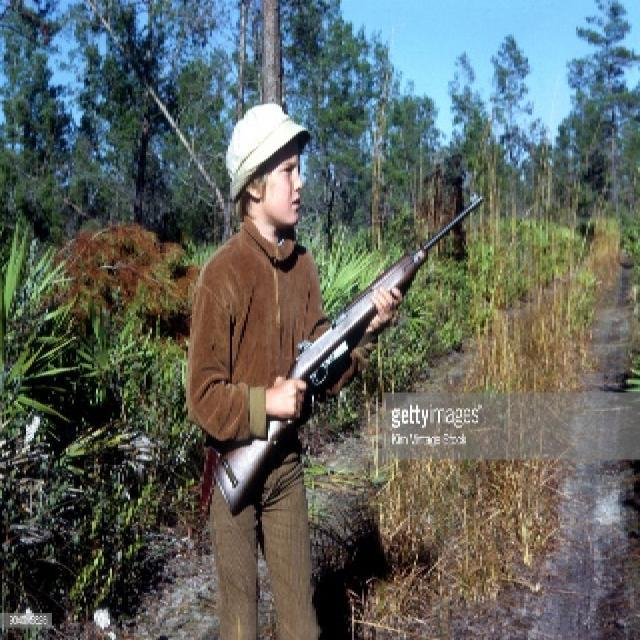weapon: (214, 184, 488, 506)
